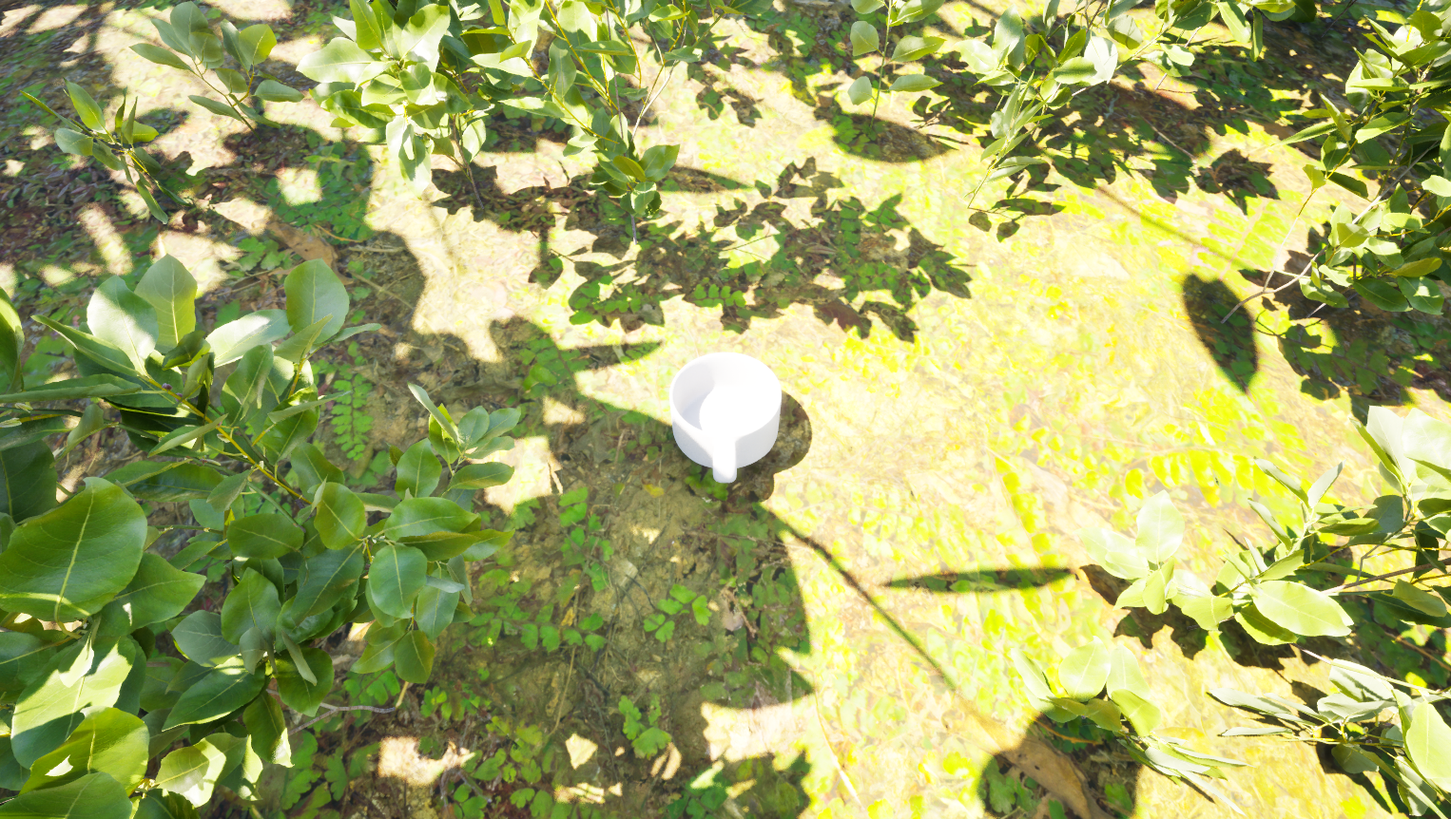Teacup: (635, 337, 802, 501)
